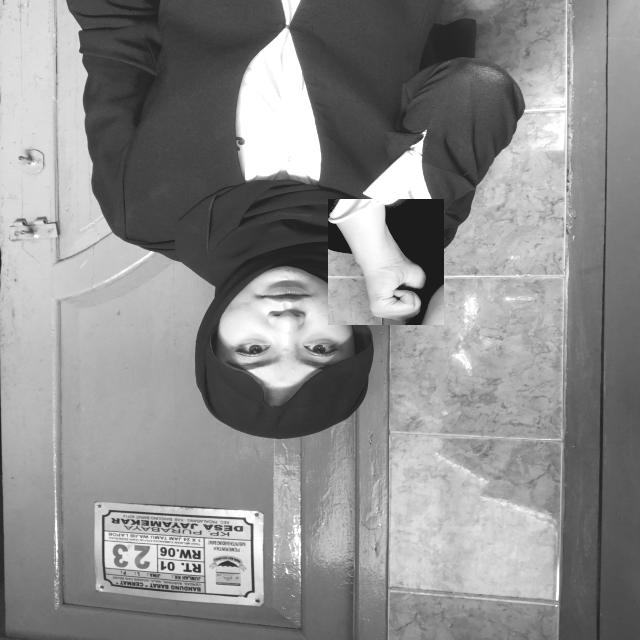ibu: (328, 199, 444, 325)
